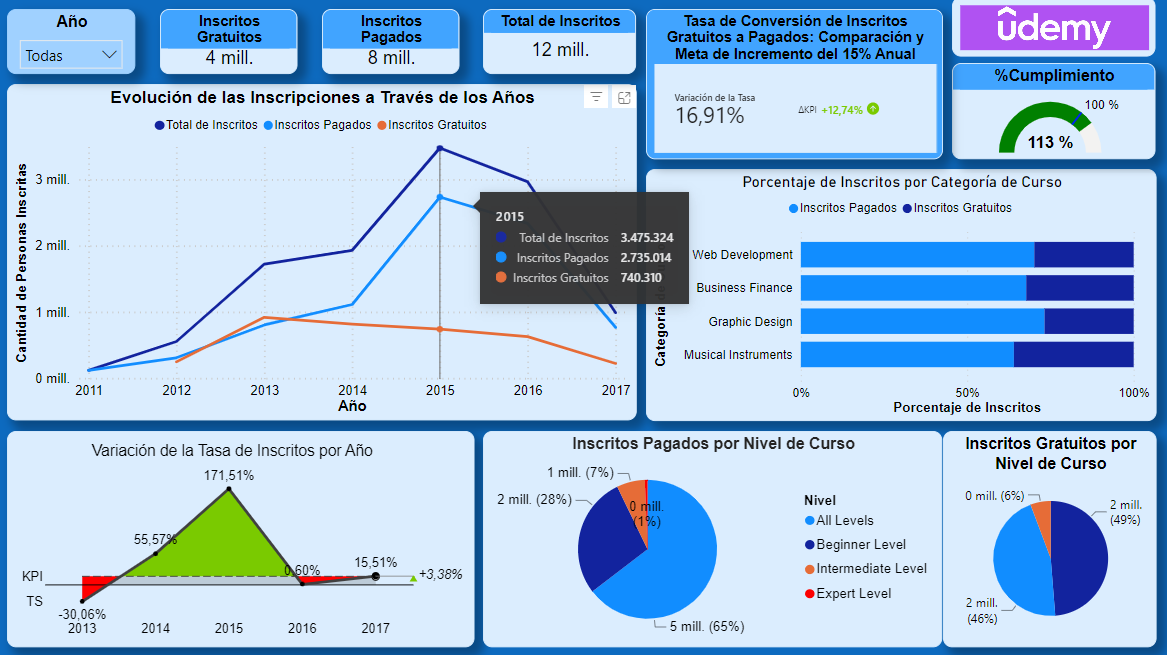

The page's visual inventory and layout, read from the dashboard file:
{"tool":"powerbi","page":{"name":"KPI1","canvas":[1280,720],"ordinal":0},"visuals":[{"type":"lineChart","title":"Evolución de las Inscripciones  a Través de los Años","fields":{"Y":["Sum(udemy_transformation.num_subscribers)","udemy_transformation.InscritosPagados","udemy_transformation.InscritosGratuitos"],"Category":["Calendario.Date.Variación.Jerarquía de fechas.Año"]},"box":[13,95,686.9,367.2],"z":0},{"type":"card","title":"Total de Inscritos","fields":{"Values":["Sum(udemy_transformation.num_subscribers)"]},"box":[550.1,13,149.8,70.6],"z":1000},{"type":"waterfall6C9ED82ABD1F44C4A0D590CE01EB5EE7","fields":{"Category":["Calendario.Date.Variación.Jerarquía de fechas.Año"],"Values":["udemy_transformation.VariacionTasaInscritos"],"Plan":["udemy_transformation.KPI"]},"box":[13,473.8,509.8,236.2],"z":2000},{"type":"hundredPercentStackedBarChart","title":"Porcentaje de Inscritos por Categoría de Curso","fields":{"Category":["udemy_transformation.subject"],"Y":["udemy_transformation.InscritosPagados","udemy_transformation.InscritosGratuitos"]},"box":[709.9,187.2,557.3,275],"z":3000},{"type":"pieChart","title":"Inscritos Gratuitos por Nivel de Curso","fields":{"Category":["udemy_transformation.level"],"Y":["udemy_transformation.InscritosGratuitos"]},"box":[1033.9,473.8,233.3,236.2],"z":4000},{"type":"slicer","title":"Año","fields":{"Values":["Calendario.Date.Variación.Jerarquía de fechas.Año"]},"box":[70.6,13,139.7,70.6],"z":5000},{"type":"pieChart","title":"Inscritos Pagados por  Nivel de Curso","fields":{"Category":["udemy_transformation.level"],"Y":["udemy_transformation.InscritosPagados"]},"box":[532.8,473.8,501.1,236.2],"z":6000},{"type":"card","title":"Inscritos Pagados","fields":{"Values":["udemy_transformation.InscritosPagados"]},"box":[383,13,149.8,70.6],"z":7000},{"type":"card","title":"Inscritos Gratuitos","fields":{"Values":["udemy_transformation.InscritosGratuitos"]},"box":[221.8,13,149.8,70.6],"z":8000},{"type":"pureVizInfographicC9801BF222134D2D83FA9C41861F3482","fields":{"dataset":["udemy_transformation.%Cumplimiento1","udemy_transformation.Color1"]},"box":[1044,64.8,221.8,112.3],"z":9000},{"type":"zebraBiCards2C860CFAA9944091B75F0DBD117F20FA","title":"Tasa de Conversión de Inscritos Gratuitos a Pagados: Comparación y Meta de Incremento del 15%","fields":{"Values":["udemy_transformation.VariacionTasaInscritos"],"Plan":["udemy_transformation.KPI1"]},"box":[709.9,13,324,164.2],"z":10000},{"type":"image","box":[1044,0,221.8,64.8],"z":11000},{"type":"actionButton","box":[0,13,60.5,59],"z":13000}]}

Visuals, with their boxes in screenshot pixels (x1, y1, x2, y2), scaled from the page's 1280x720 canvas onto the 1167x655 screenshot:
"Evolución de las Inscripciones  a Través de los Años" lineChart: (x1=12, y1=86, x2=638, y2=420)
"Total de Inscritos" card: (x1=502, y1=12, x2=638, y2=76)
waterfall6C9ED82ABD1F44C4A0D590CE01EB5EE7 - Calendario.Date.Variación.Jerarquía de fechas.Año x udemy_transformation.VariacionTasaInscritos: (x1=12, y1=431, x2=477, y2=646)
"Porcentaje de Inscritos por Categoría de Curso" hundredPercentStackedBarChart: (x1=647, y1=170, x2=1155, y2=420)
"Inscritos Gratuitos por Nivel de Curso" pieChart: (x1=943, y1=431, x2=1155, y2=646)
"Año" slicer: (x1=64, y1=12, x2=192, y2=76)
"Inscritos Pagados por  Nivel de Curso" pieChart: (x1=486, y1=431, x2=943, y2=646)
"Inscritos Pagados" card: (x1=349, y1=12, x2=486, y2=76)
"Inscritos Gratuitos" card: (x1=202, y1=12, x2=339, y2=76)
pureVizInfographicC9801BF222134D2D83FA9C41861F3482 - udemy_transformation.%Cumplimiento1 x udemy_transformation.Color1: (x1=952, y1=59, x2=1154, y2=161)
"Tasa de Conversión de Inscritos Gratuitos a Pagados: Comparación y Meta de Incremento del 15%" zebraBiCards2C860CFAA9944091B75F0DBD117F20FA: (x1=647, y1=12, x2=943, y2=161)
image: (x1=952, y1=0, x2=1154, y2=59)
actionButton: (x1=0, y1=12, x2=55, y2=66)
